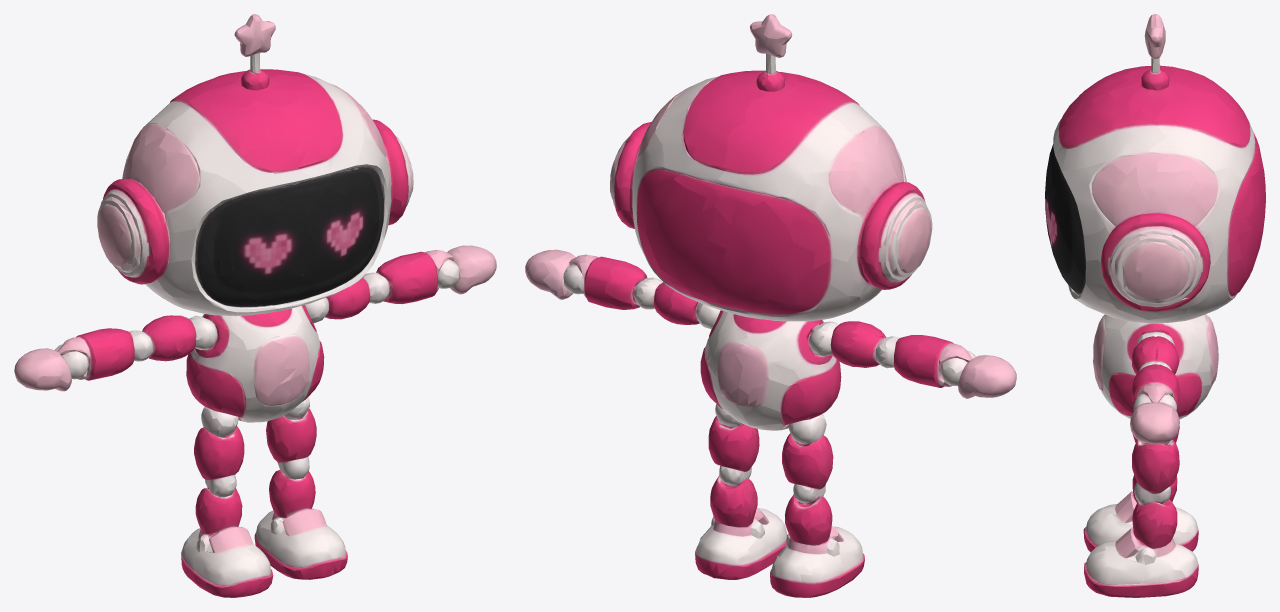
The model's file is robot.glb.
3 renders of one model, left to right at view 1: azimuth 30°, elevation 25°; view 2: azimuth 150°, elevation 25°; view 3: azimuth 270°, elevation 25°, orthographic.
Visible parts, largest first — view 1: output_unwrapped; view 2: output_unwrapped; view 3: output_unwrapped.
Part boxes in pixels (x1,y1,x2,y2): output_unwrapped: (14, 14, 496, 597); output_unwrapped: (525, 14, 1016, 597); output_unwrapped: (1045, 14, 1265, 597).
Bounding box in the file's own units: 1.73 × 1.9 × 0.6908.
Materials: 1 (1 with a texture image).
